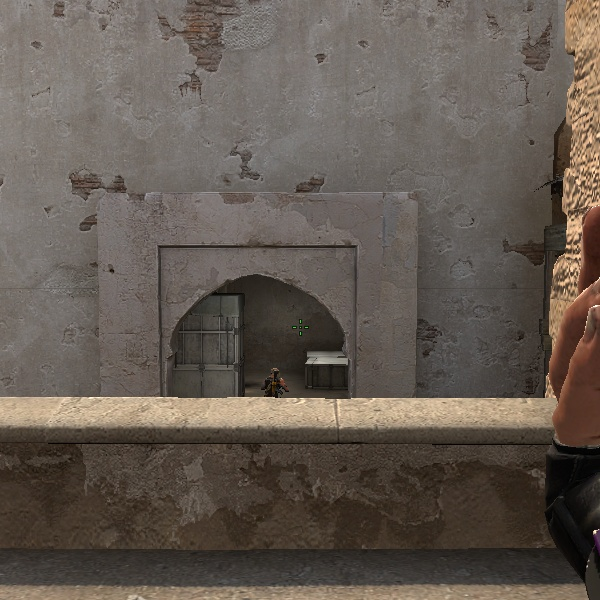t_body: (260, 368, 292, 398)
t_head: (269, 368, 280, 379)
